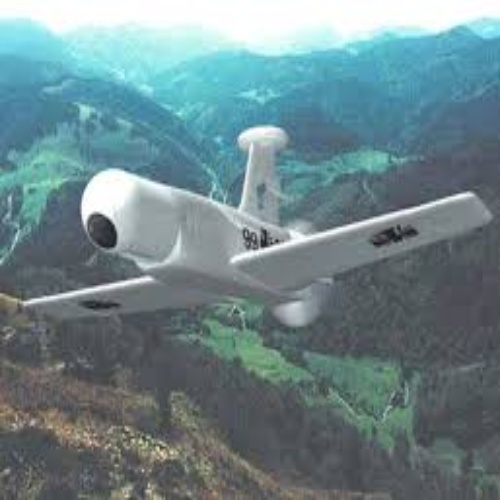uav: (19, 124, 492, 332)
